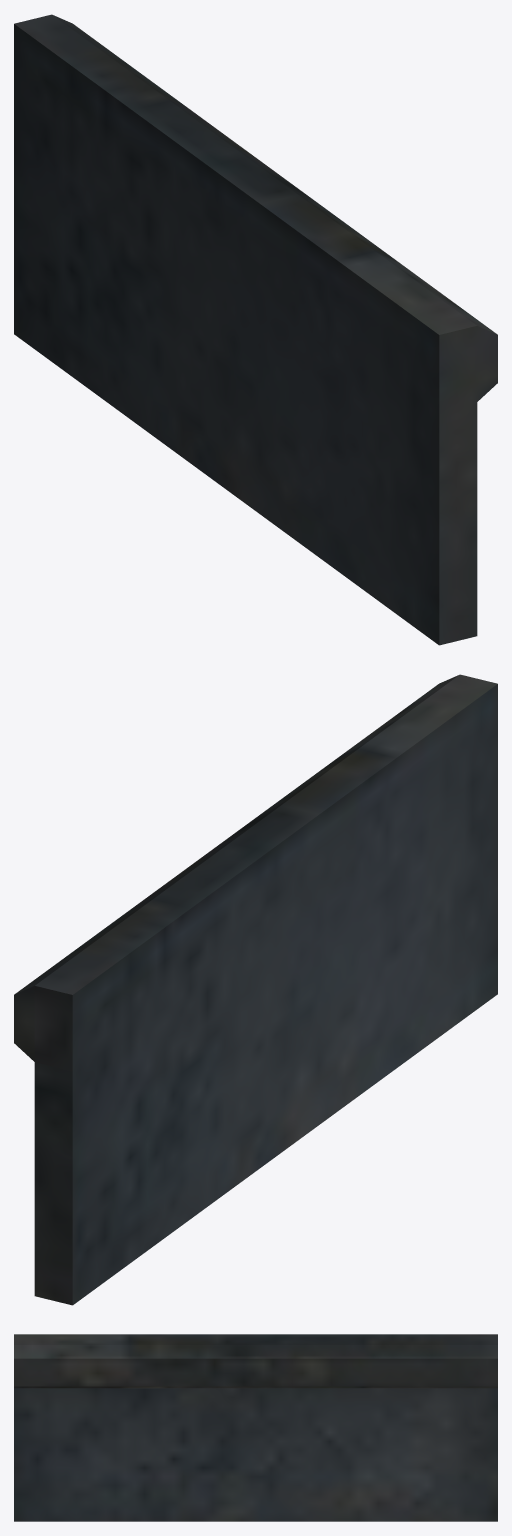
The model's file is BalconySingleWall.FBX.
3 renders of one model, top to bottom at view 1: azimuth 30°, elevation 25°; view 2: azimuth 150°, elevation 25°; view 3: azimuth 270°, elevation 25°, orthographic. The views are drawn at different scales.
Parts seen in each view (by area): view 1: BalconySingleWall; view 2: BalconySingleWall; view 3: BalconySingleWall.
Part boxes in pixels (x1,y1,x2,y2): BalconySingleWall: [14, 14, 497, 645]; BalconySingleWall: [14, 674, 497, 1305]; BalconySingleWall: [14, 1334, 497, 1521].
Size of the model in its own units: 22.71 by 115 by 285.
